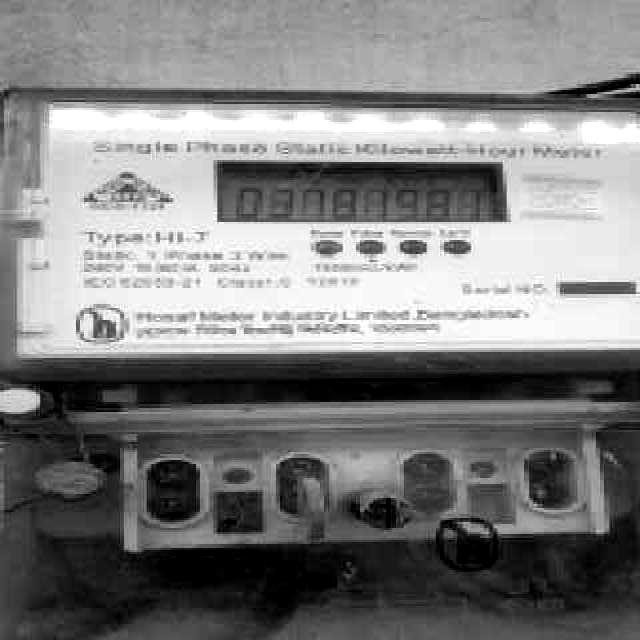LCD: (207, 154, 515, 231)
